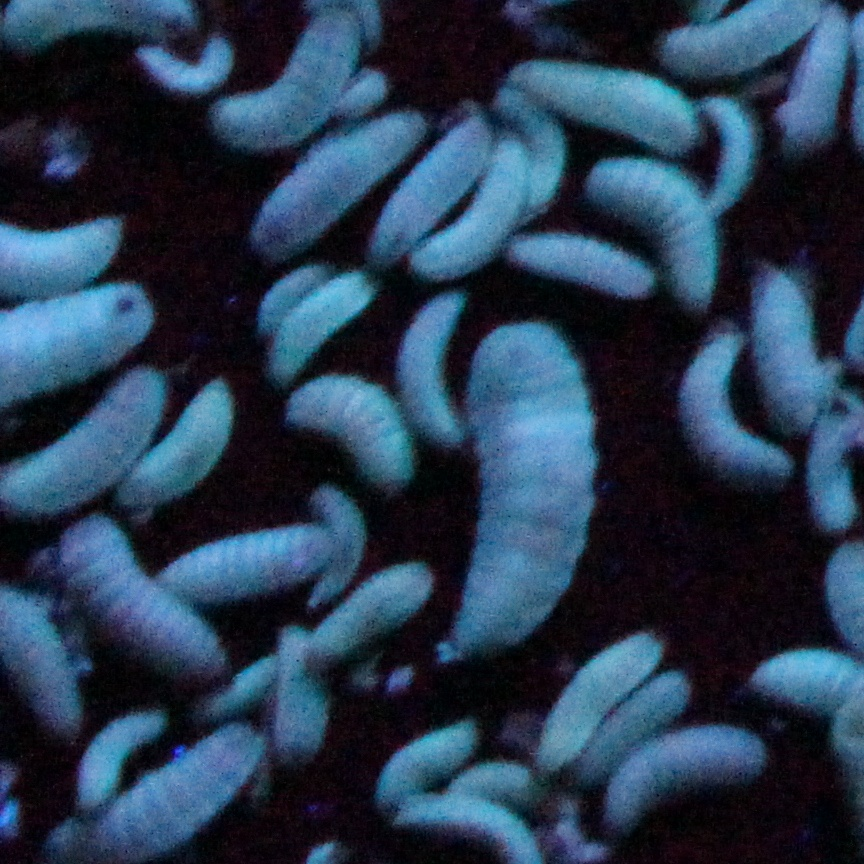larve: (469, 329, 579, 650), (1, 366, 167, 515), (248, 112, 420, 250), (59, 524, 206, 681), (510, 59, 700, 156), (679, 321, 775, 498), (614, 156, 720, 306), (288, 374, 413, 492), (131, 385, 242, 512), (543, 633, 652, 753), (741, 274, 824, 420), (315, 571, 431, 667), (618, 734, 753, 814), (658, 2, 816, 70), (268, 274, 370, 379), (776, 12, 854, 145), (356, 708, 465, 802), (380, 131, 474, 237), (400, 296, 466, 446), (590, 684, 684, 771), (271, 630, 330, 762), (520, 236, 653, 293), (75, 712, 162, 797), (159, 542, 317, 586), (475, 135, 524, 271), (702, 99, 760, 207), (310, 490, 362, 600), (141, 43, 243, 88)
